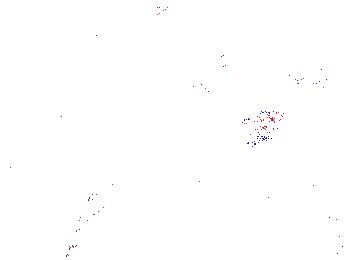X-ray fish: (226, 109, 283, 156)
glassfish: (70, 160, 126, 250), (179, 146, 246, 195)
red belly glassfish: (162, 78, 213, 95), (293, 66, 334, 86)
redtail glassfish: (162, 38, 230, 70), (147, 1, 218, 20)
